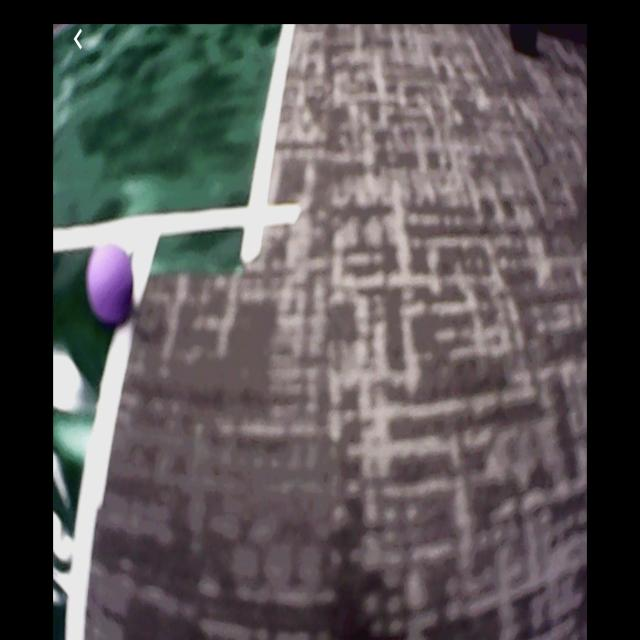ball: (87, 244, 136, 325)
